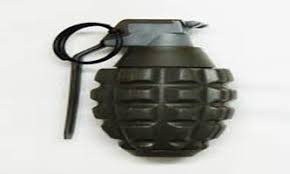e1: (53, 19, 238, 159)
